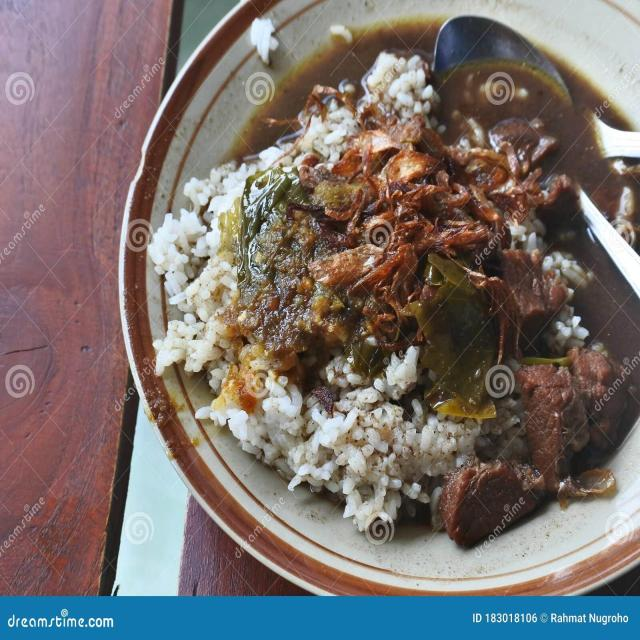Rawon: (215, 44, 633, 508)
